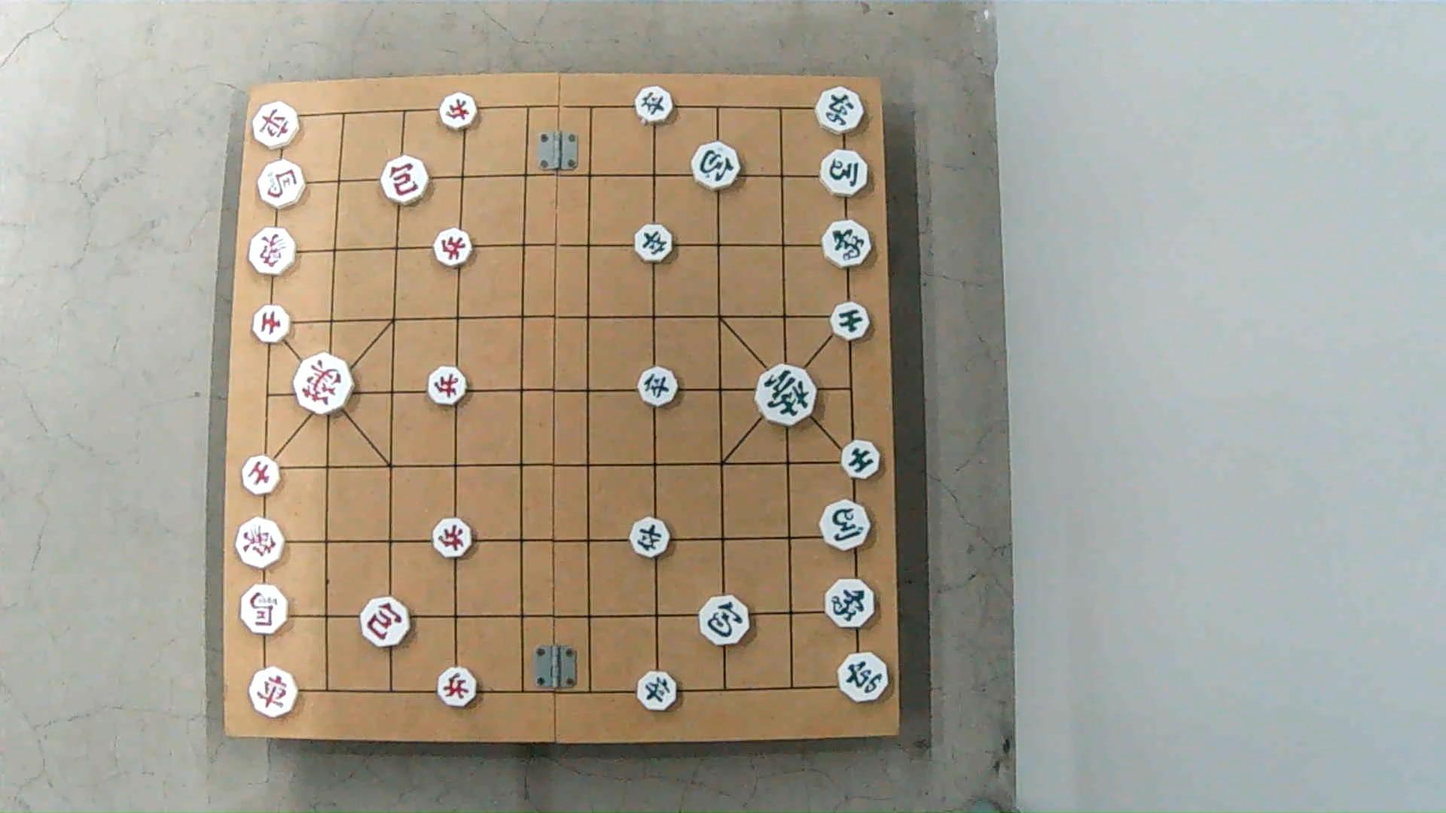cha_green: (835, 654, 890, 701), (814, 88, 866, 132)
cha_red: (247, 666, 299, 712), (248, 105, 299, 149)
jol_green: (637, 672, 682, 710), (630, 519, 673, 554), (636, 371, 679, 406), (632, 227, 675, 261), (634, 88, 676, 122)
jol_red: (435, 521, 479, 558), (437, 670, 481, 706), (438, 93, 480, 129), (431, 368, 473, 403), (431, 231, 473, 264)
ma_green: (819, 501, 872, 547), (821, 152, 872, 196)
ma_red: (236, 585, 287, 633), (255, 163, 305, 207)
po_green: (699, 594, 752, 648), (691, 144, 742, 190)
po_red: (363, 601, 415, 647), (381, 160, 434, 203)
sa_green: (840, 441, 883, 477), (827, 305, 868, 340)
sa_red: (239, 457, 282, 493), (253, 306, 294, 340)
sang_green: (821, 218, 871, 269), (825, 580, 880, 626)
sang_red: (236, 521, 288, 567), (246, 228, 295, 273)
wang_green: (754, 361, 817, 425)
wang_red: (293, 357, 358, 411)
